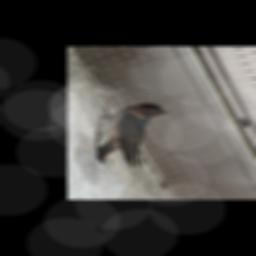Swallow: (93, 103, 169, 167)
